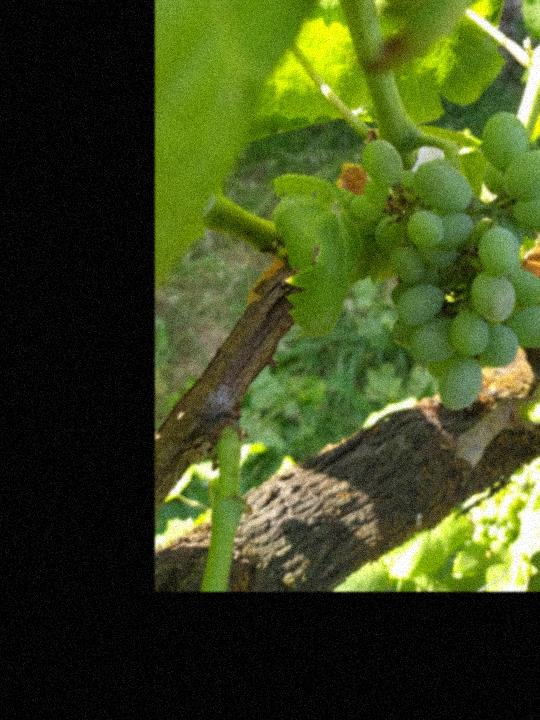grape: (343, 109, 540, 412)
